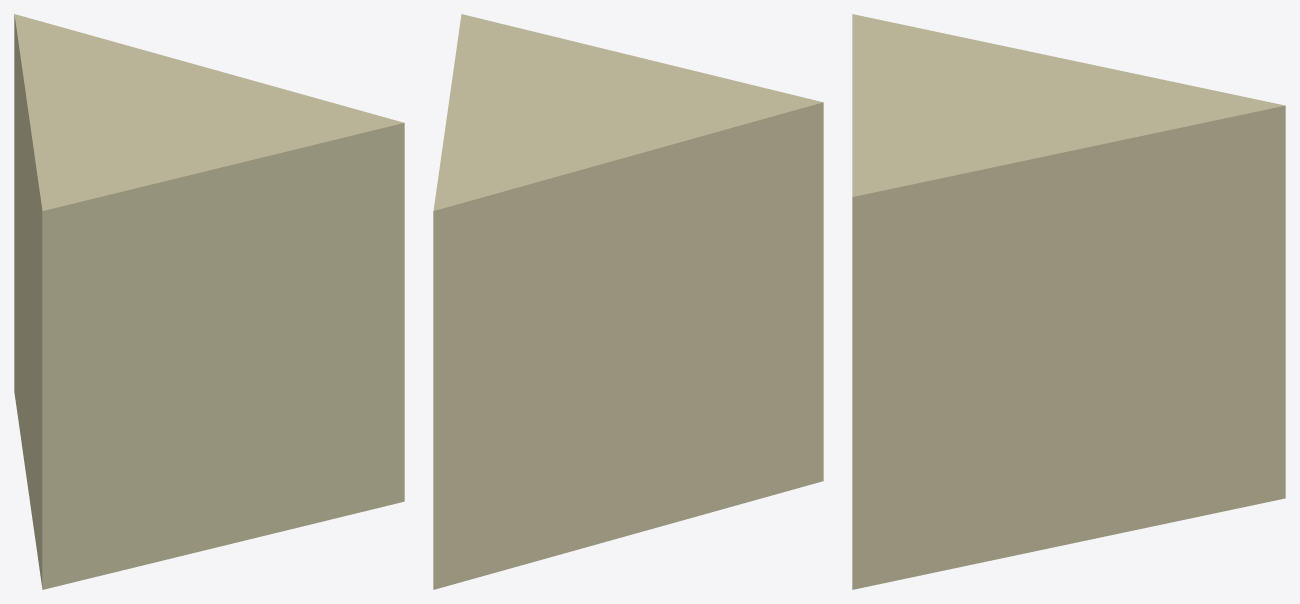
The model's file is Shape_Wedge_A.FBX.
3 views of the same model, side by side, from view 1: azimuth 30°, elevation 25°; view 2: azimuth 150°, elevation 25°; view 3: azimuth 270°, elevation 25° (orthographic). The views are drawn at different scales.
Visible parts, largest first — view 1: Shape_Wedge_A; view 2: Shape_Wedge_A; view 3: Shape_Wedge_A.
Boxes of the visible parts, x1,y1,x2,y2 form: Shape_Wedge_A: (14,14,404,589); Shape_Wedge_A: (433,14,823,589); Shape_Wedge_A: (852,14,1285,589).
Bounding box in the file's own units: 100 × 100 × 100.
